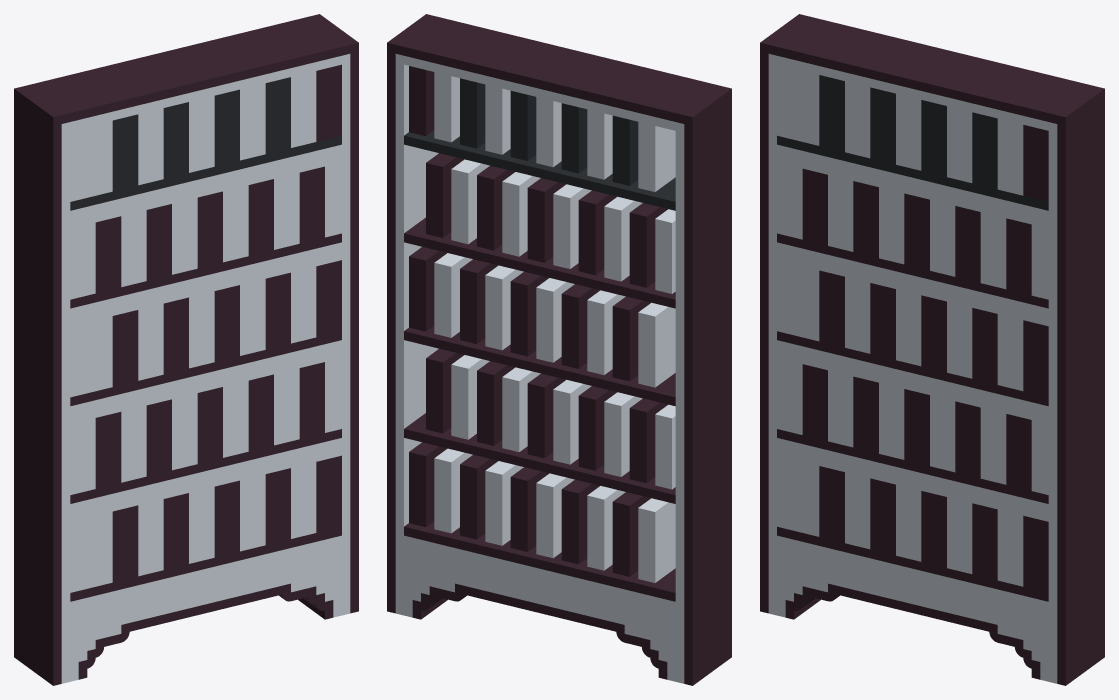
File: Bookshelf.fbx
3 views of the same model, side by side, from view 1: azimuth 30°, elevation 25°; view 2: azimuth 150°, elevation 25°; view 3: azimuth 330°, elevation 25° (orthographic).
Parts seen in each view (by area): view 1: generated; view 2: generated; view 3: generated.
Part boxes in pixels (bbox=[...]): generated: bbox=[14, 14, 358, 685]; generated: bbox=[387, 14, 731, 685]; generated: bbox=[760, 14, 1104, 685].
Bounding box in the file's own units: 1440 × 2560 × 320.
